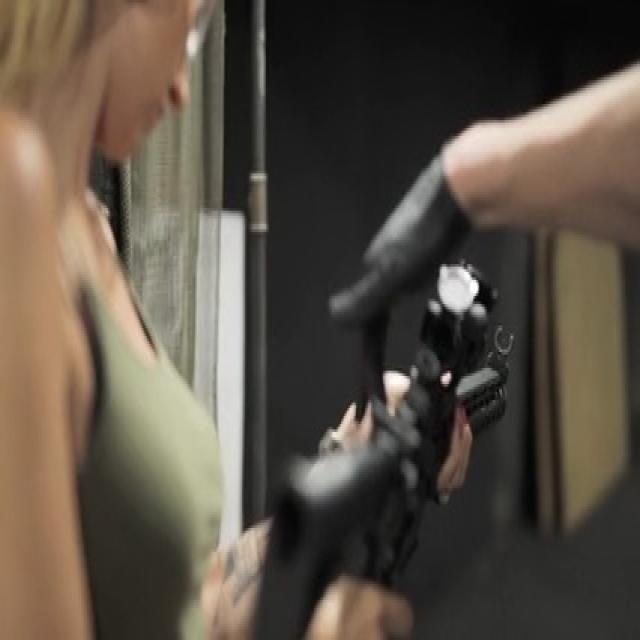Gun_Holder: (223, 258, 637, 640)
Person: (0, 0, 273, 640)
